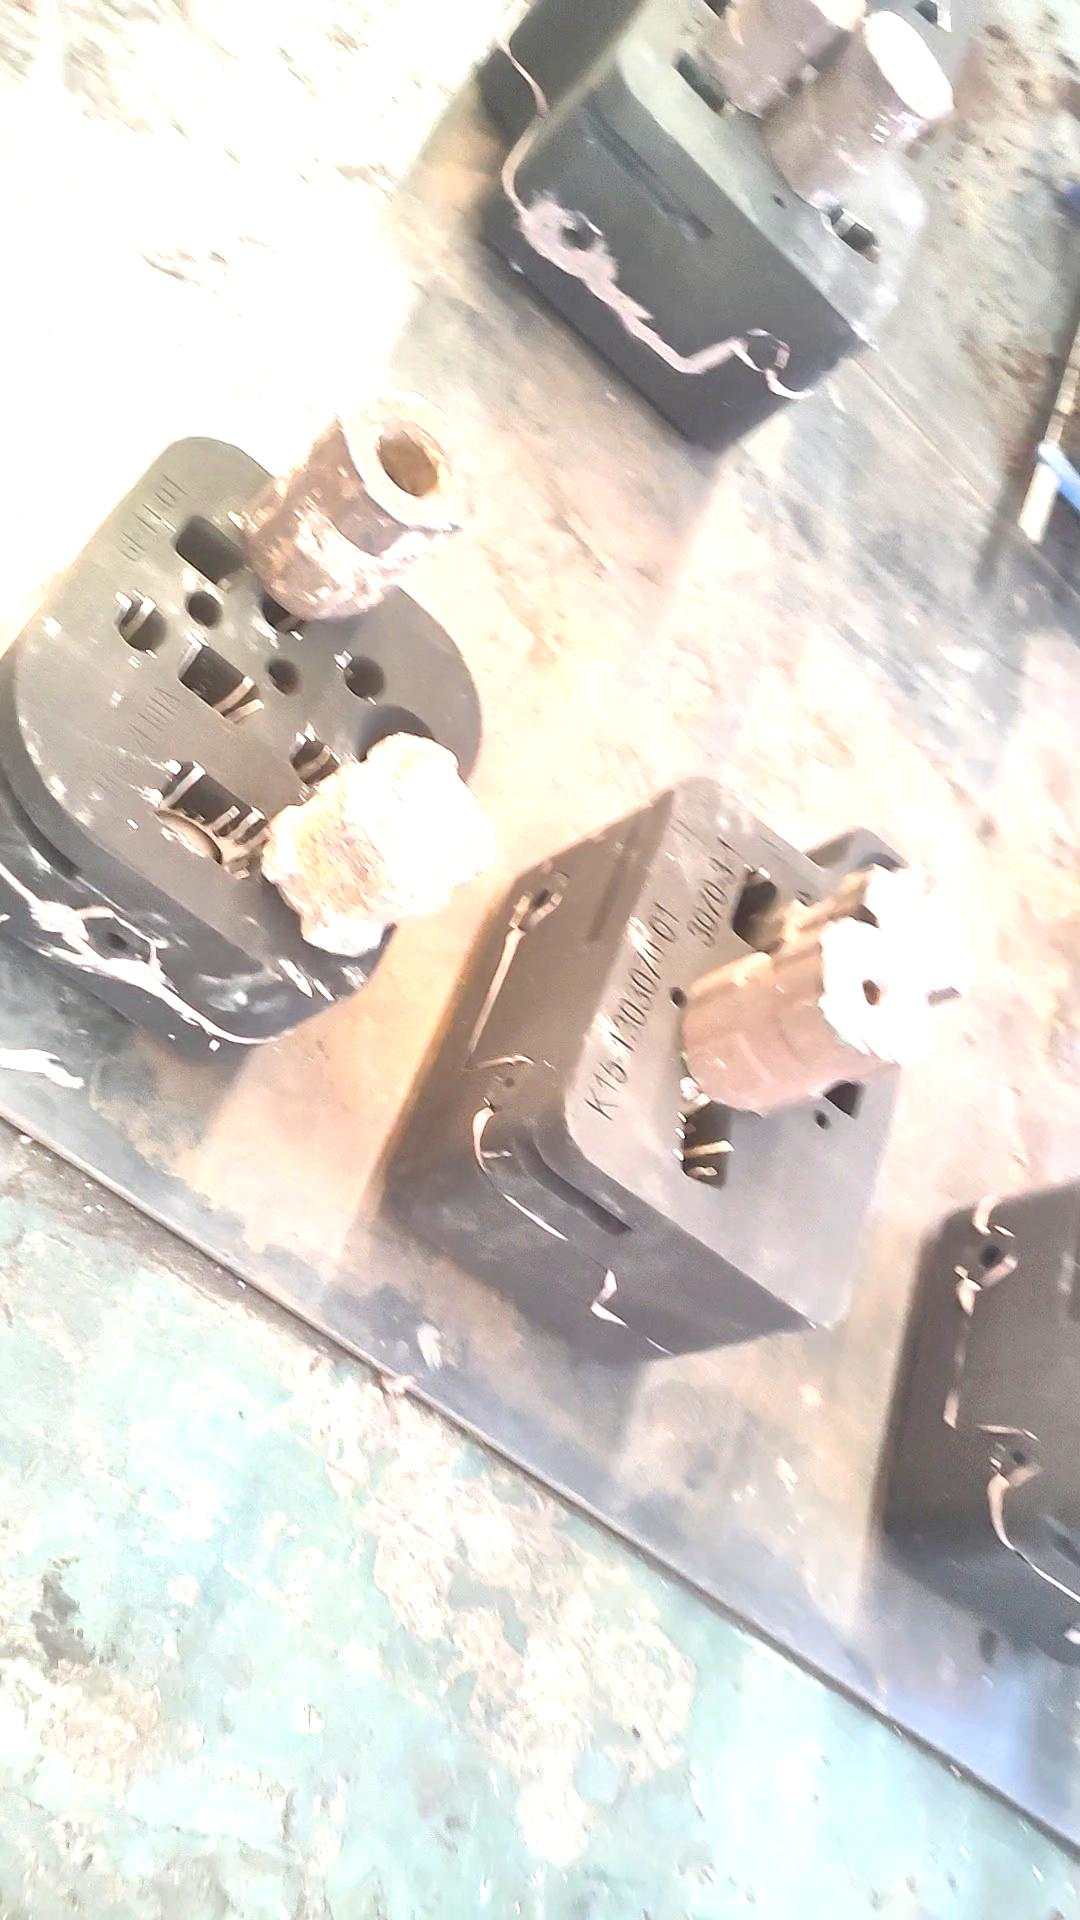pouring hole: (345, 703, 433, 775), (858, 851, 935, 931)
